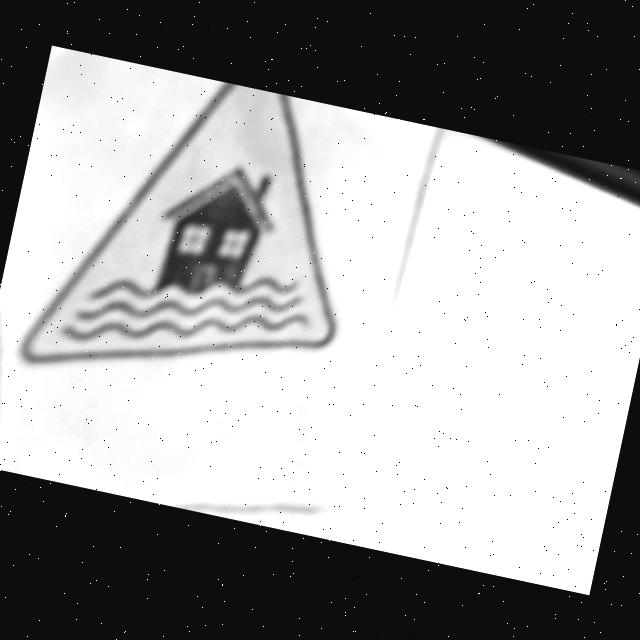Tsunami: (279, 94, 335, 347)
